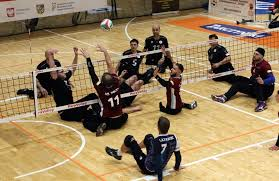ball: (100, 18, 113, 32)
